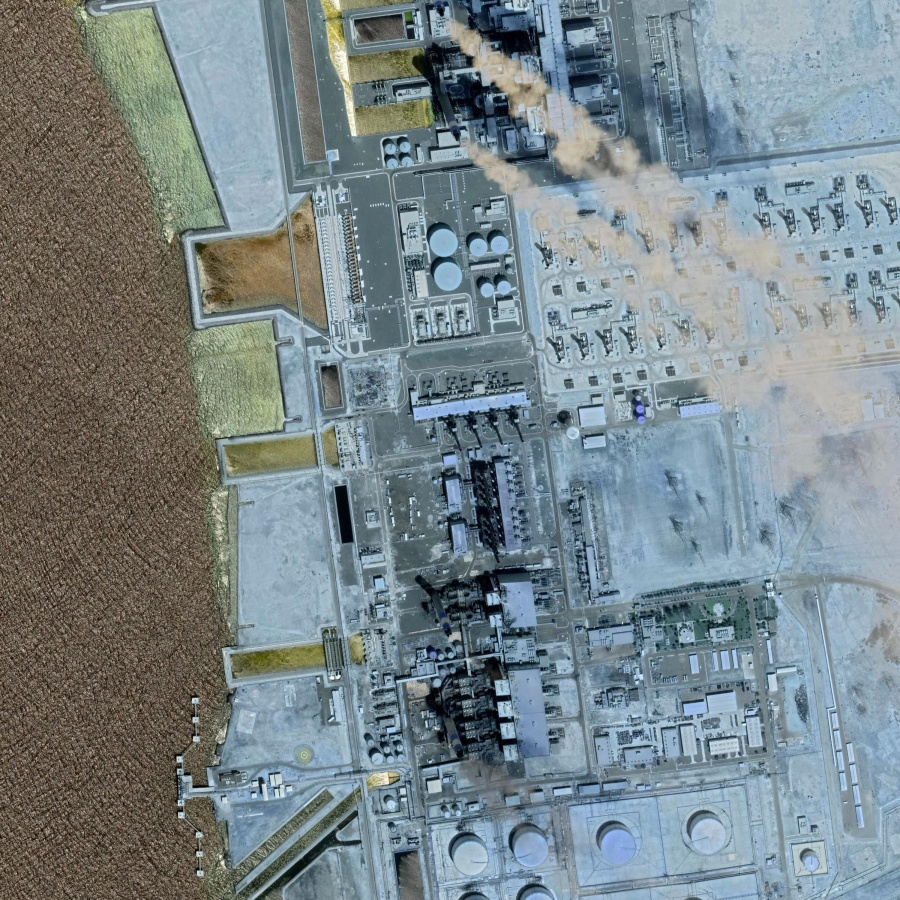PowerPlant: (362, 447, 584, 763)
